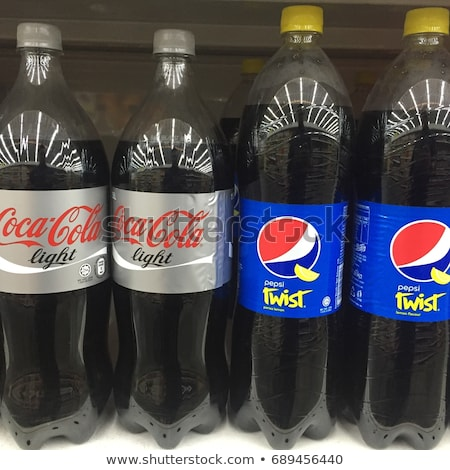pepsi: (255, 213, 320, 274), (389, 216, 448, 281)
